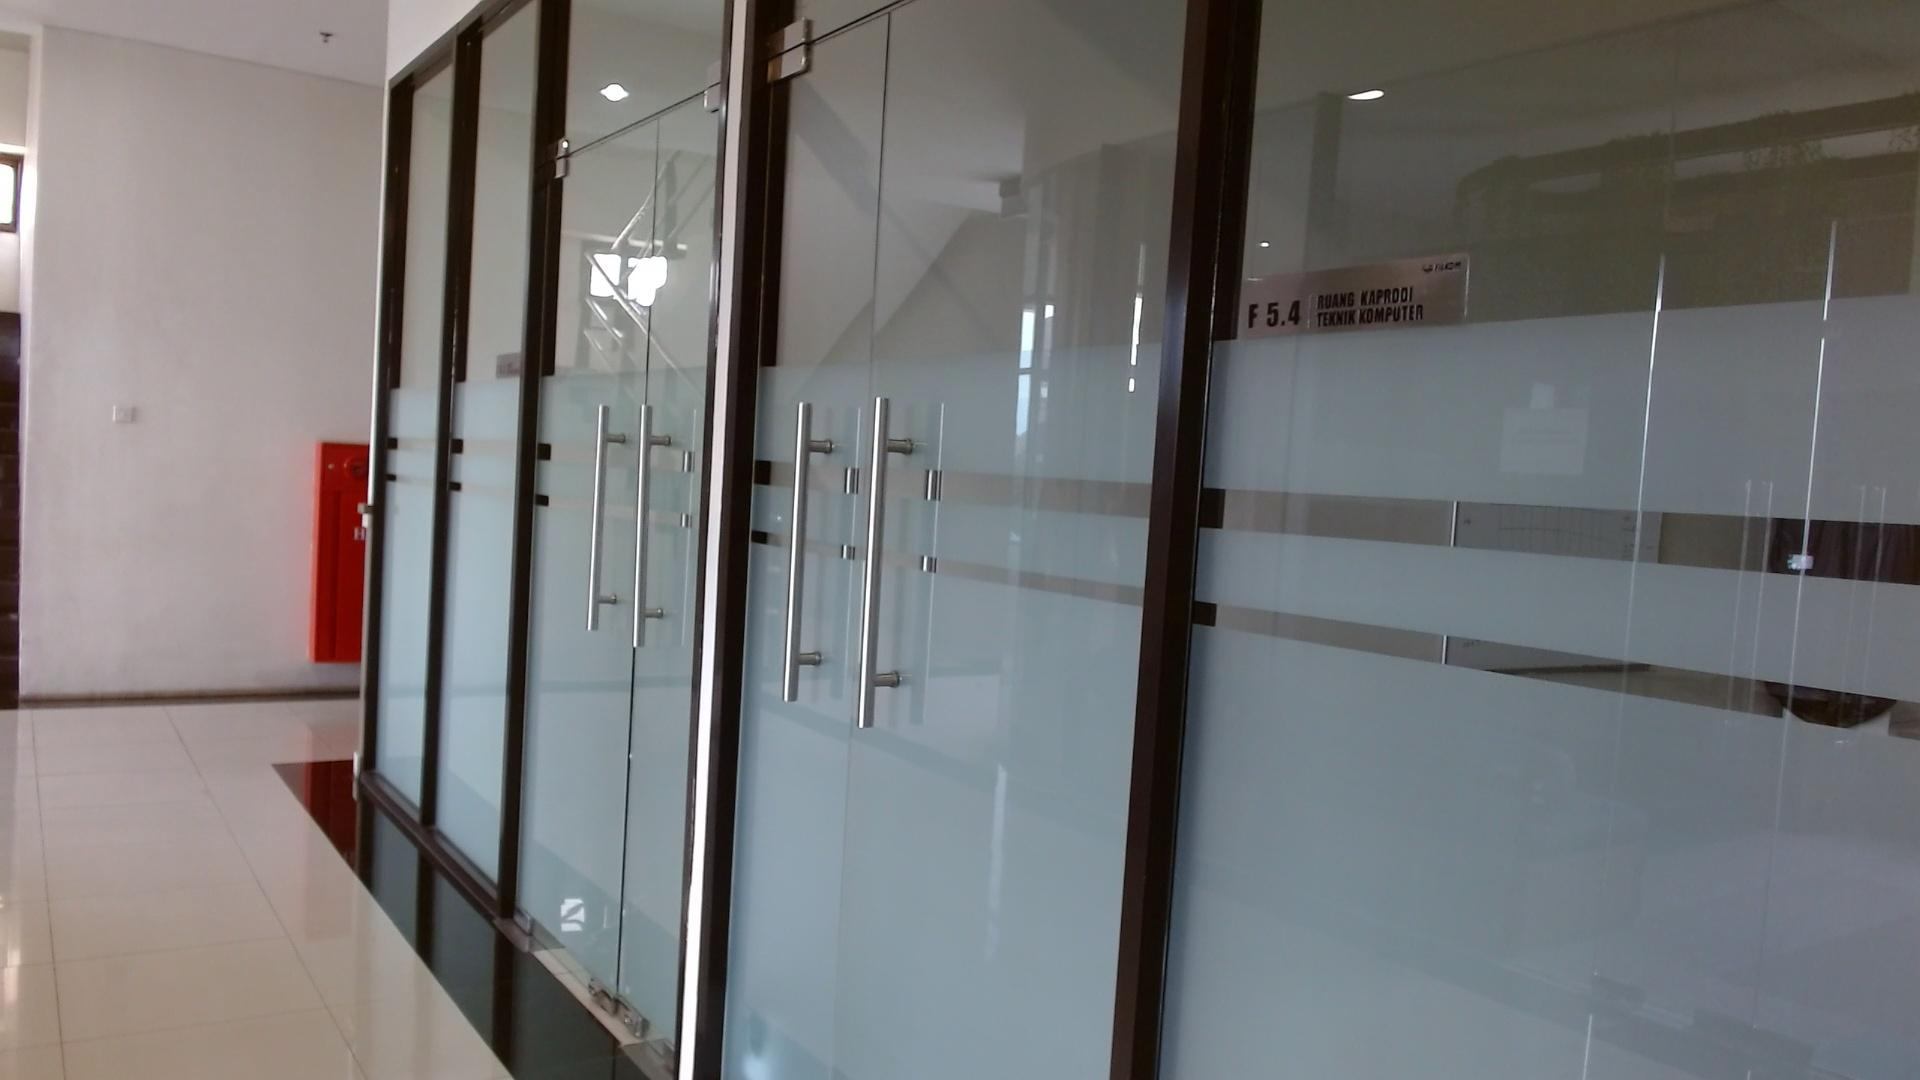plate: (1241, 252, 1469, 340)
